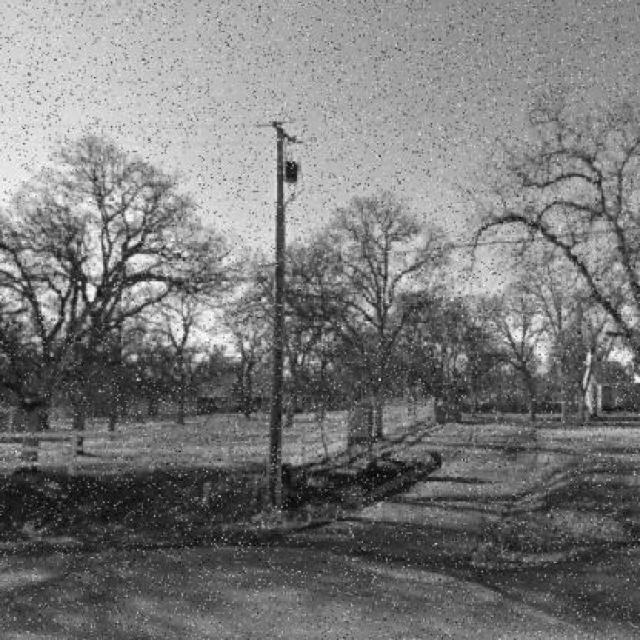pole: (222, 56, 322, 519)
